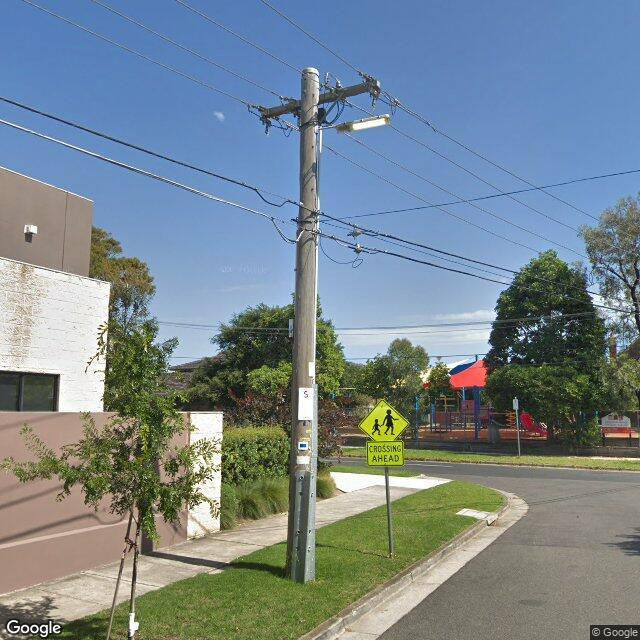crossarm: (250, 72, 384, 136)
streetlight: (320, 114, 393, 136)
timber-pole: (285, 68, 320, 582)
